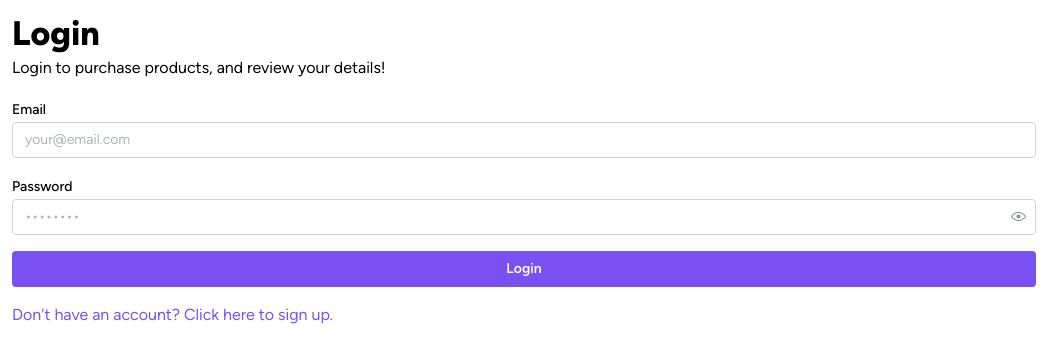
it: Login Component › shows an error when an invalid email is entered
The width and height of the screenshot is (1048, 360).
Type "invalidemail" into the field labelled "Email" at (524,140), box [12, 122, 1036, 158]
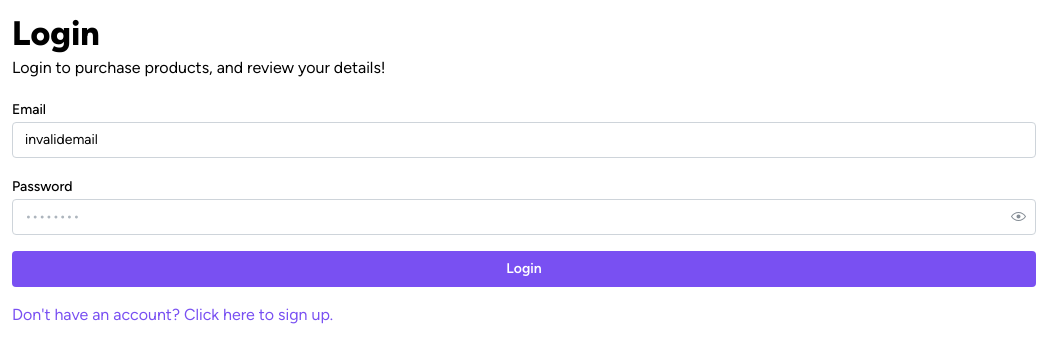
Type "ValidPassword1!" into the password field labelled "Password" at (524,217), box [13, 200, 1035, 234]
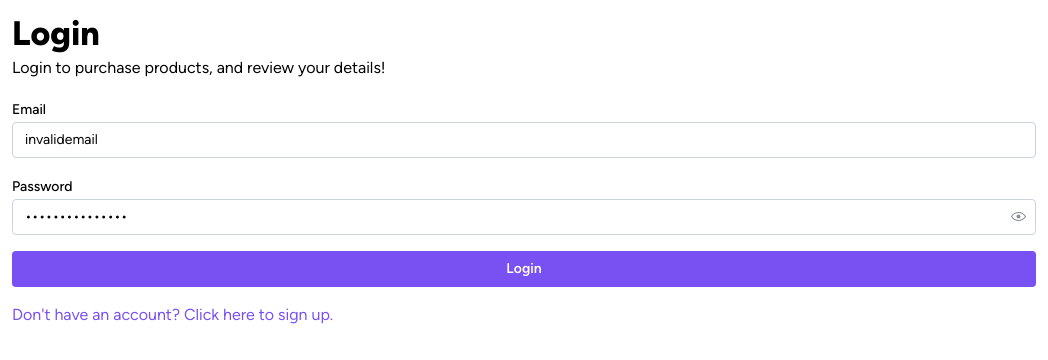
Click the button with test id "login-button" at (524,269), box [12, 251, 1036, 287]
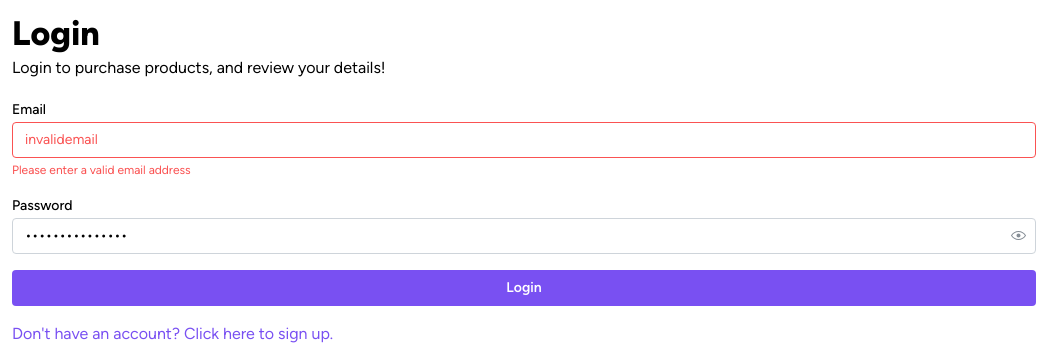
Result: the text "Please enter a valid email address" is shown at [12, 163, 191, 177]
